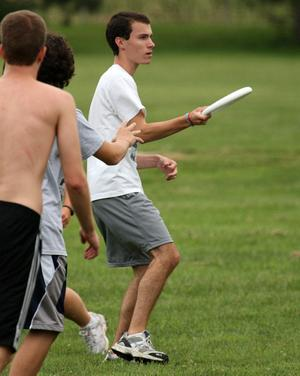person: (86, 11, 212, 366)
